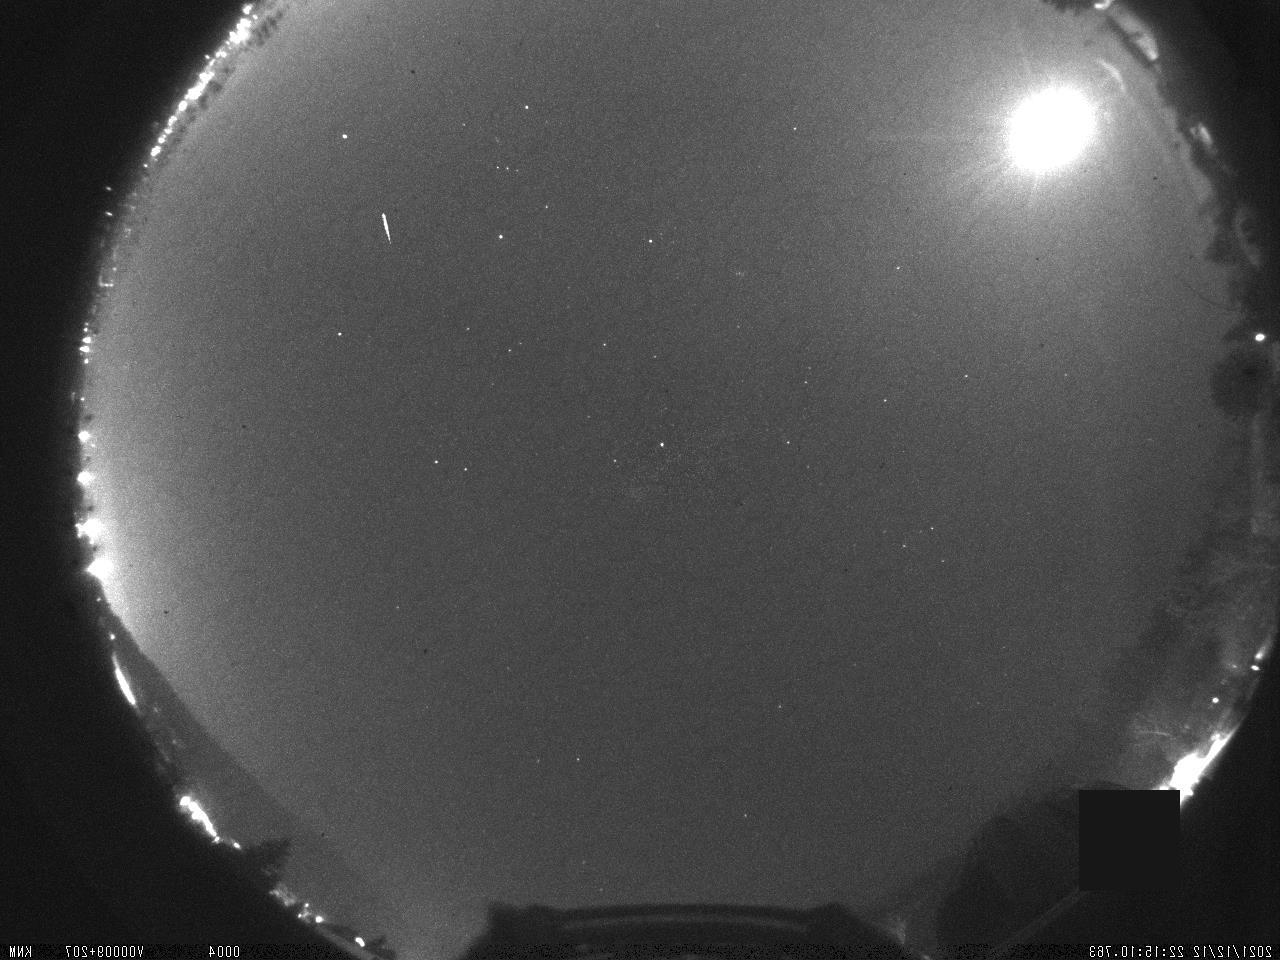meteor: (367, 205, 407, 254)
